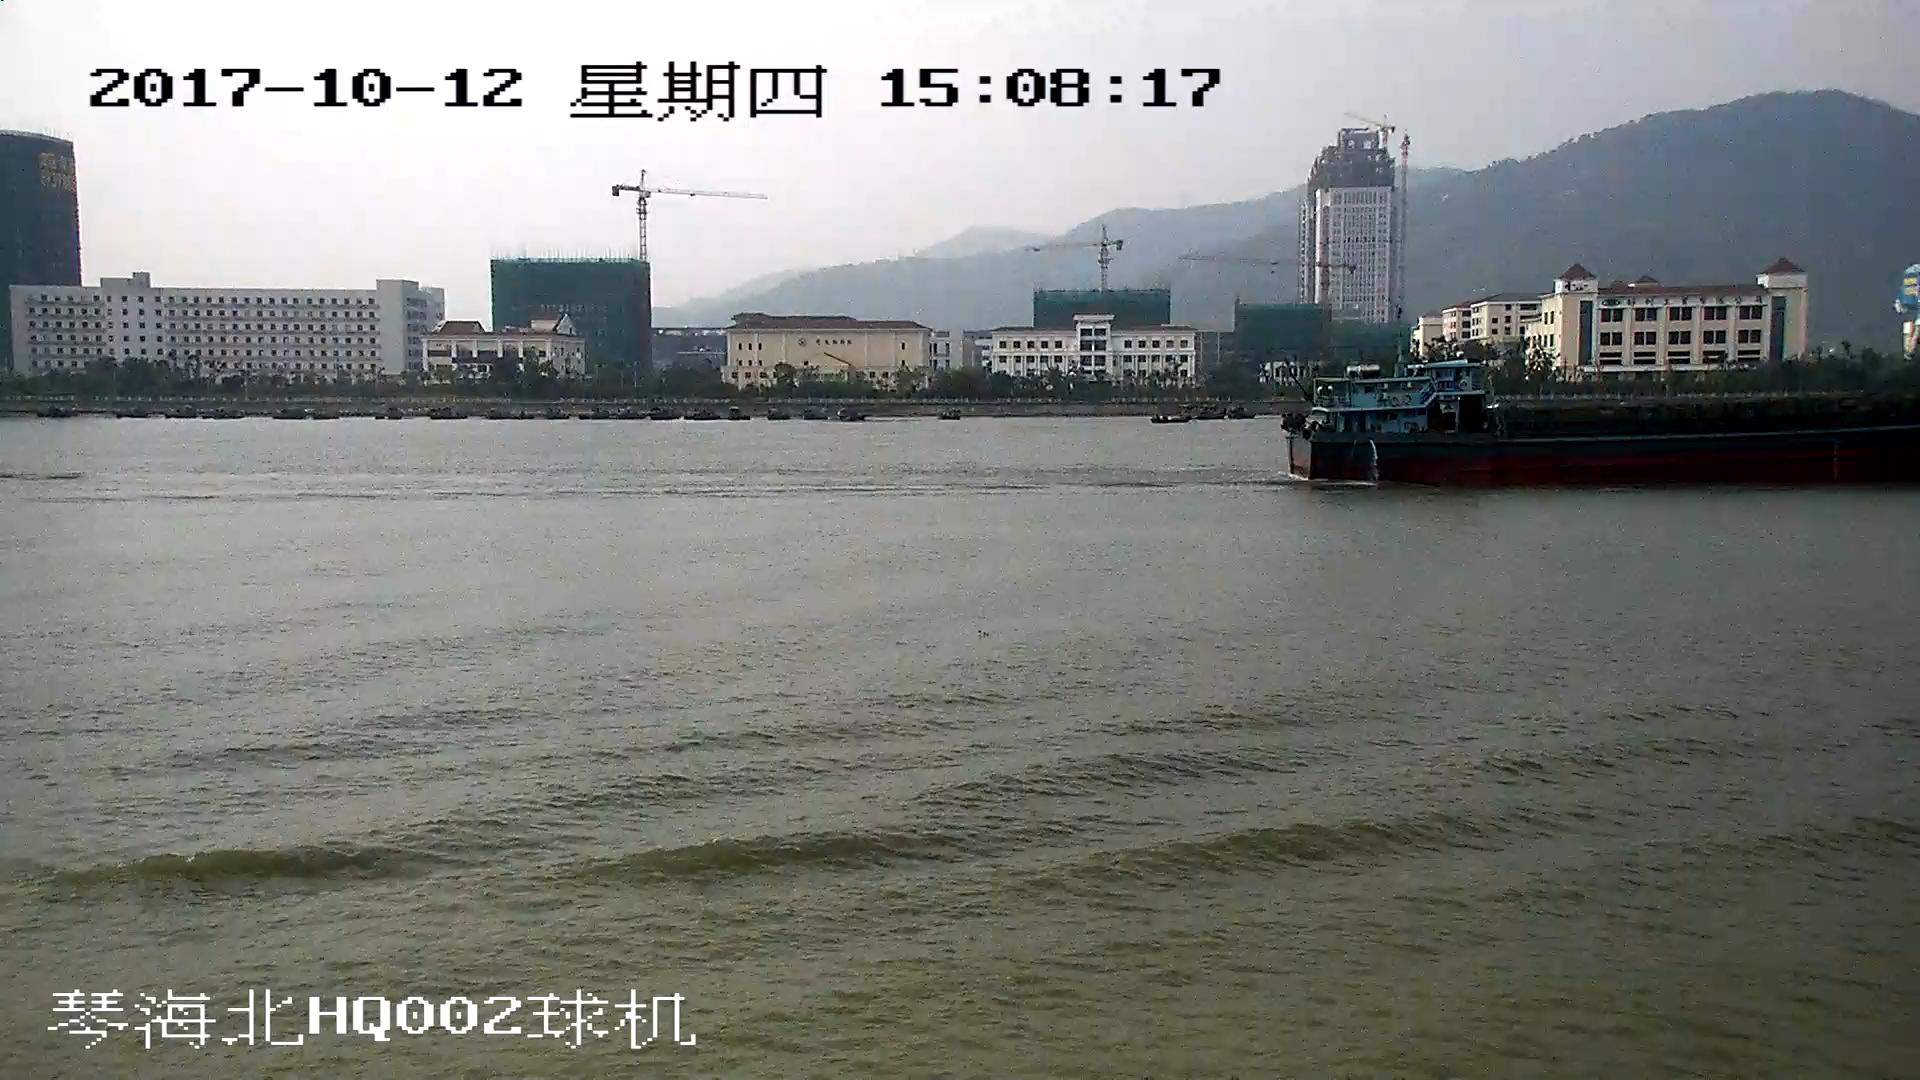bulk cargo carrier: (1286, 362, 1920, 489)
